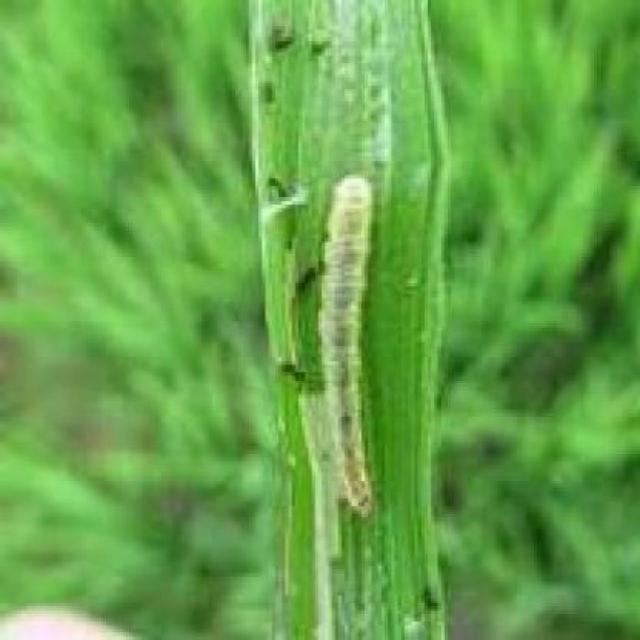leaf-folder: (302, 163, 403, 540)
